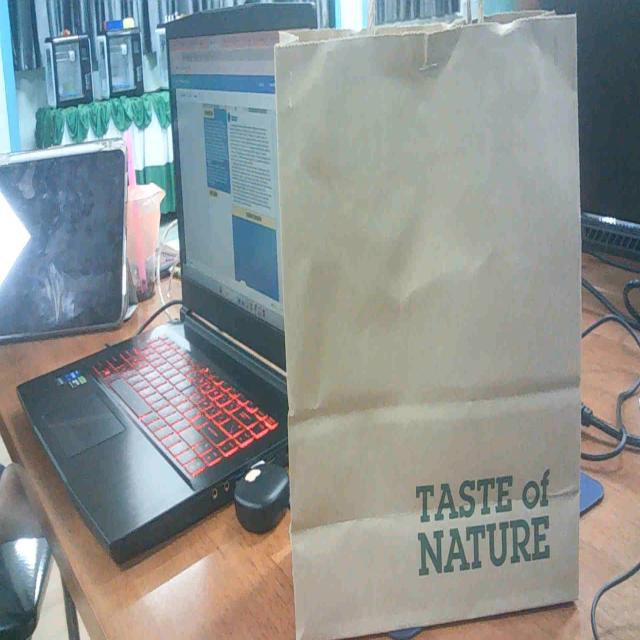bag: (242, 0, 613, 640)
